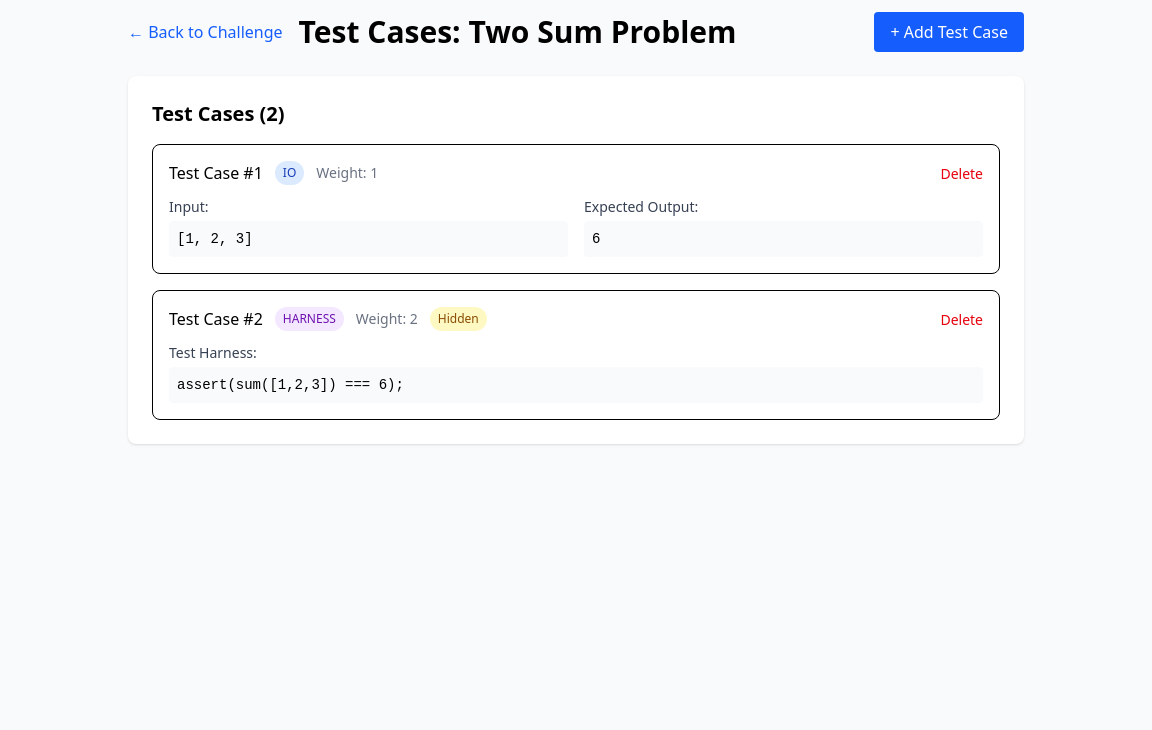
Scenario: TestCaseManager › form integration › should display form validation errors when provided
The image size is (1152, 730).
Show form to see error
Click the button "+ Add Test Case" at (949, 32), box [874,12,1024,52]
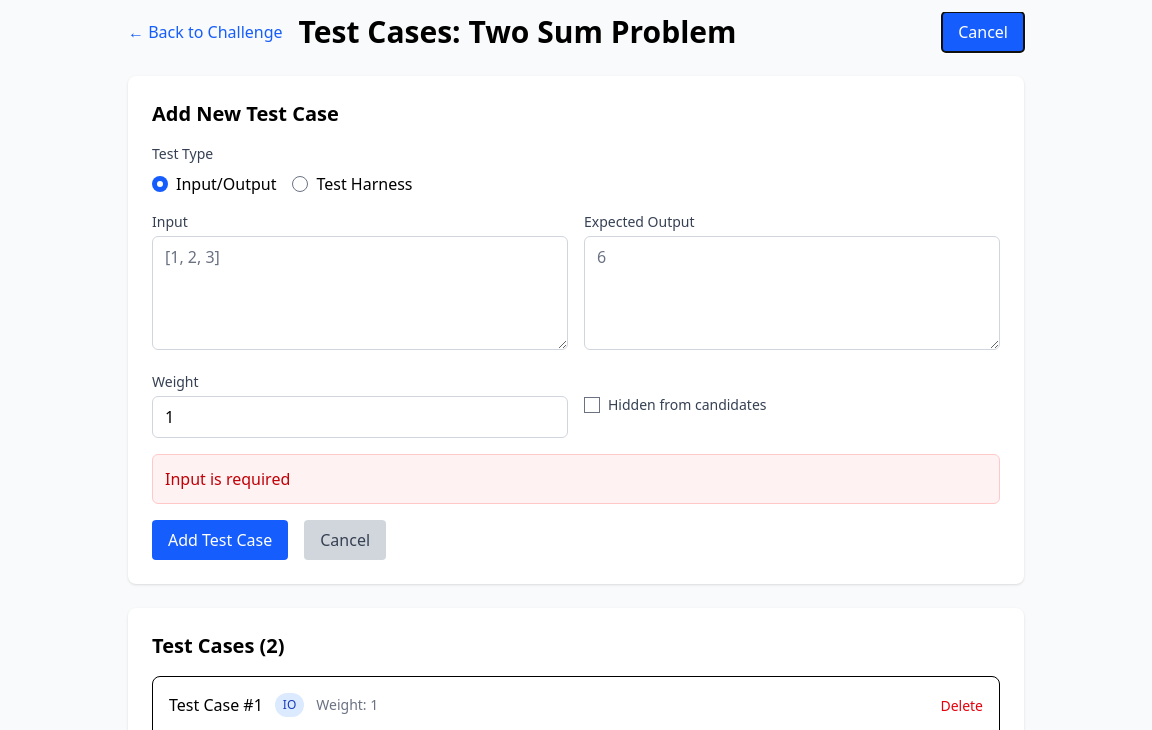
Expected: the text "Input is required" is shown, [165,468,290,490]
